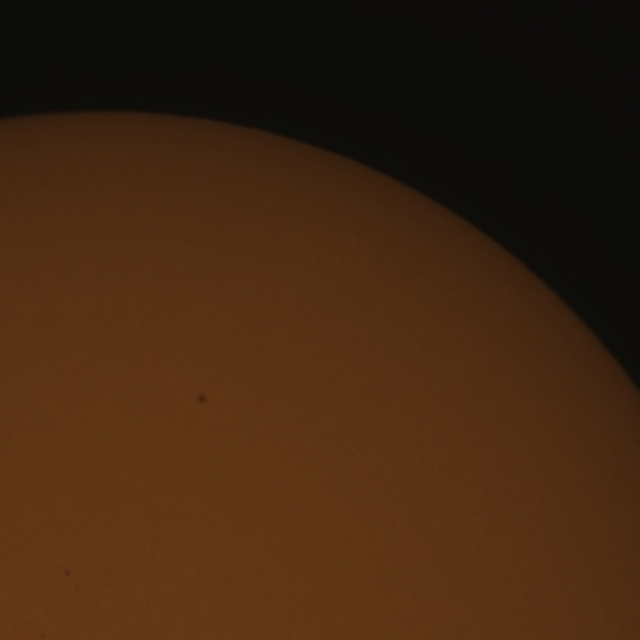sunspot: (196, 393, 208, 406), (63, 568, 72, 578)
